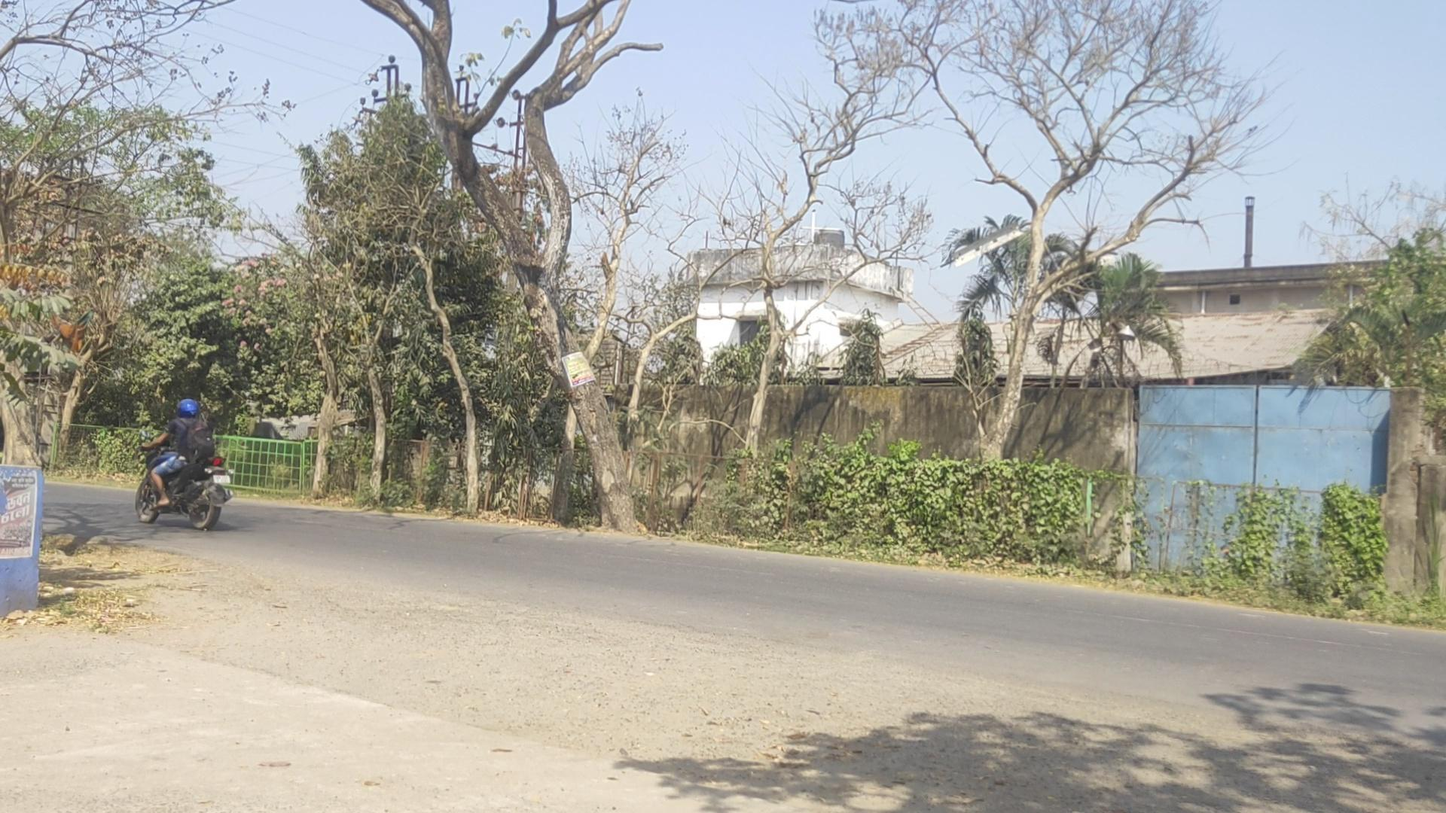bike: (134, 398, 233, 530)
